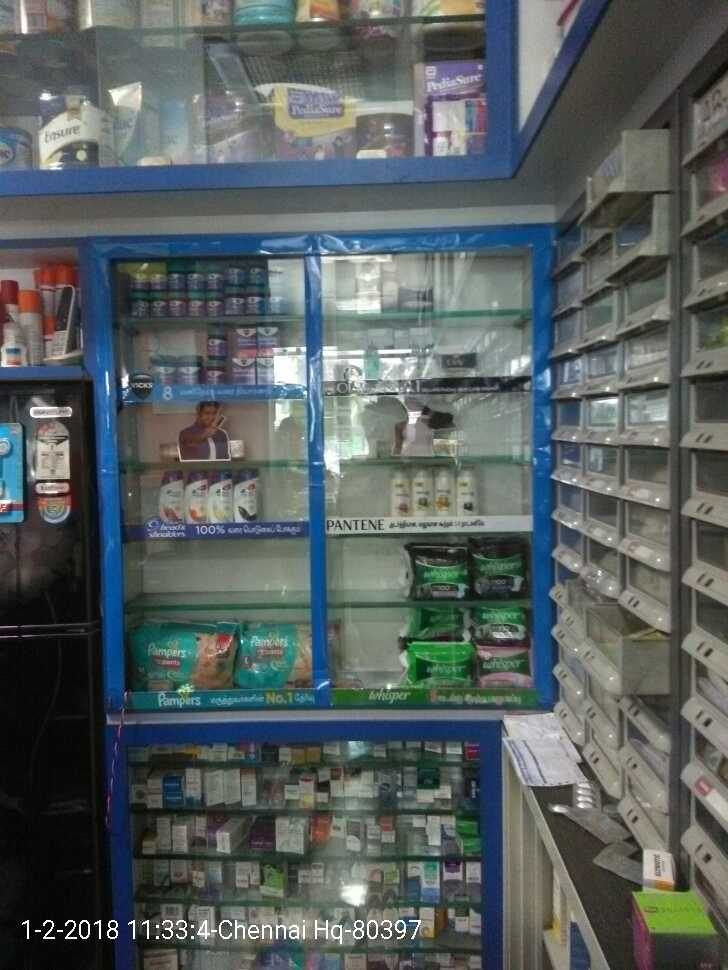vicks: (126, 258, 298, 322), (150, 328, 304, 394)
